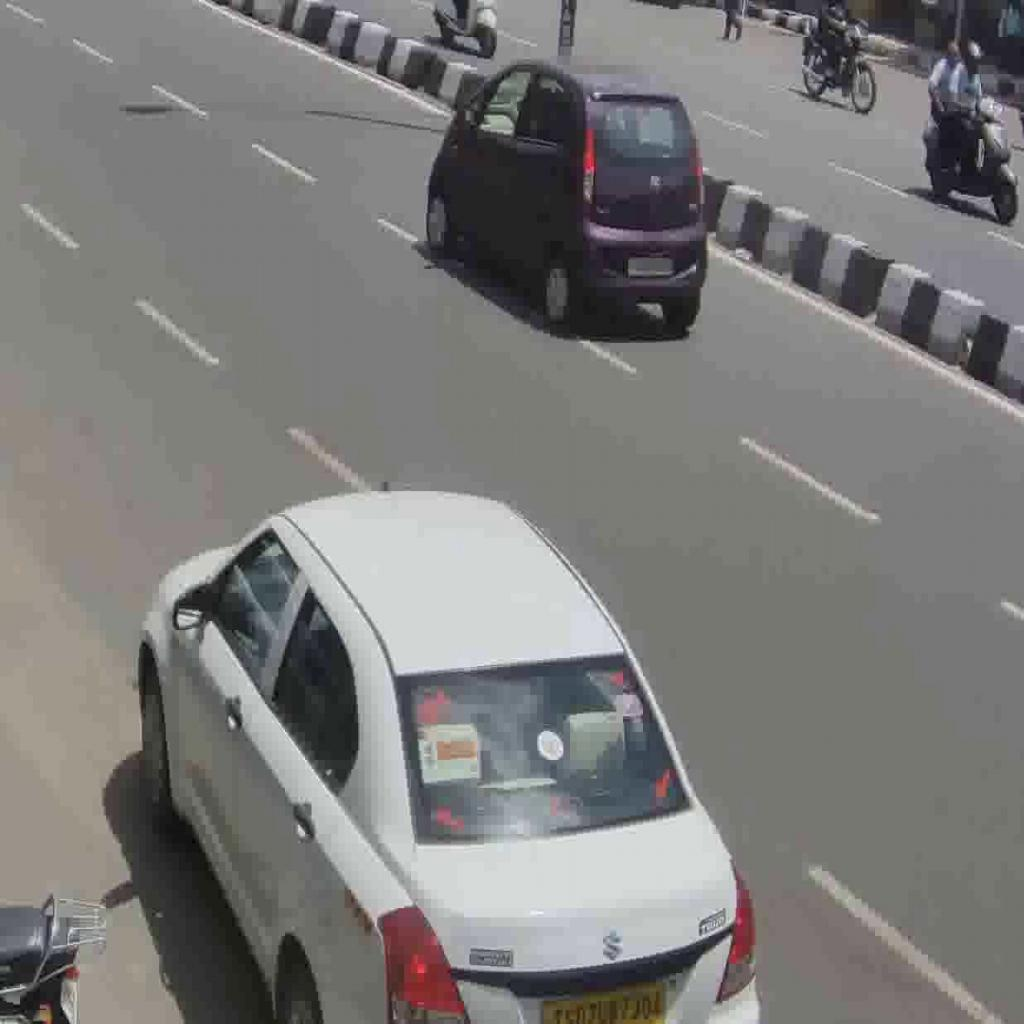helmet: (924, 94, 1018, 225)
